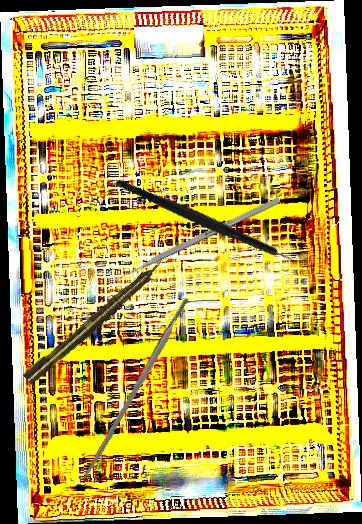Chopper: (114, 121, 316, 321)
Handpiece: (21, 254, 170, 387)
Pusher: (106, 196, 281, 287)
Scalpel Handle: (82, 296, 192, 479)
